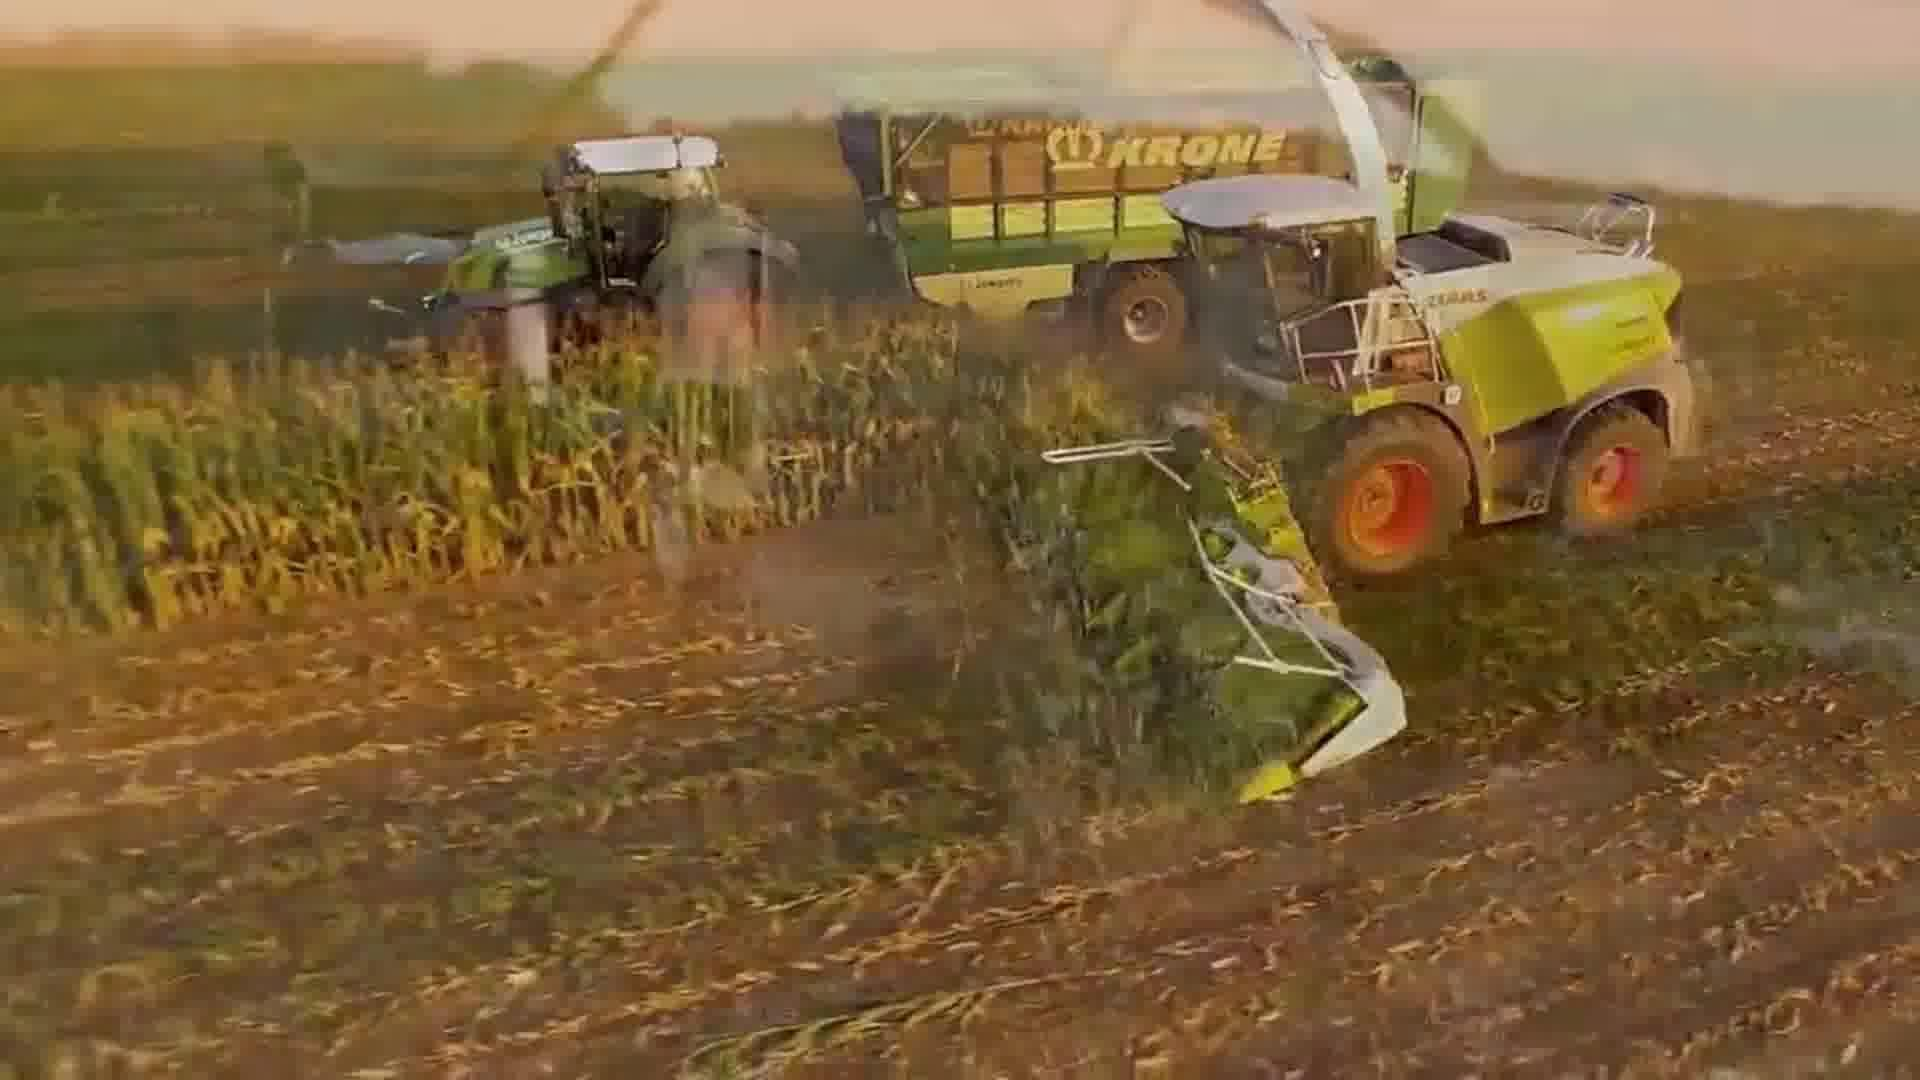combine harvester: (957, 0, 1718, 814)
tractor: (424, 117, 813, 383)
trailer: (827, 39, 1490, 356)
